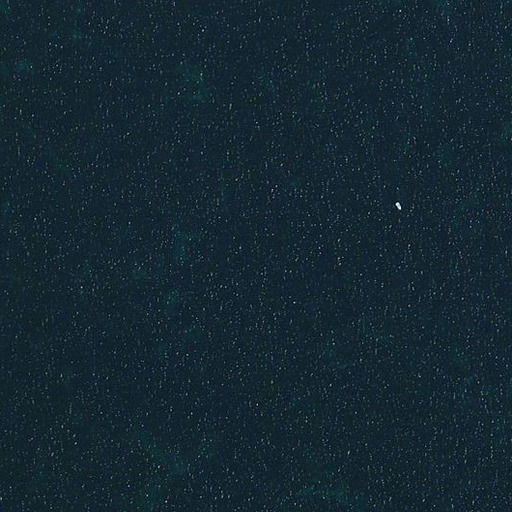ship: (391, 199, 405, 212)
